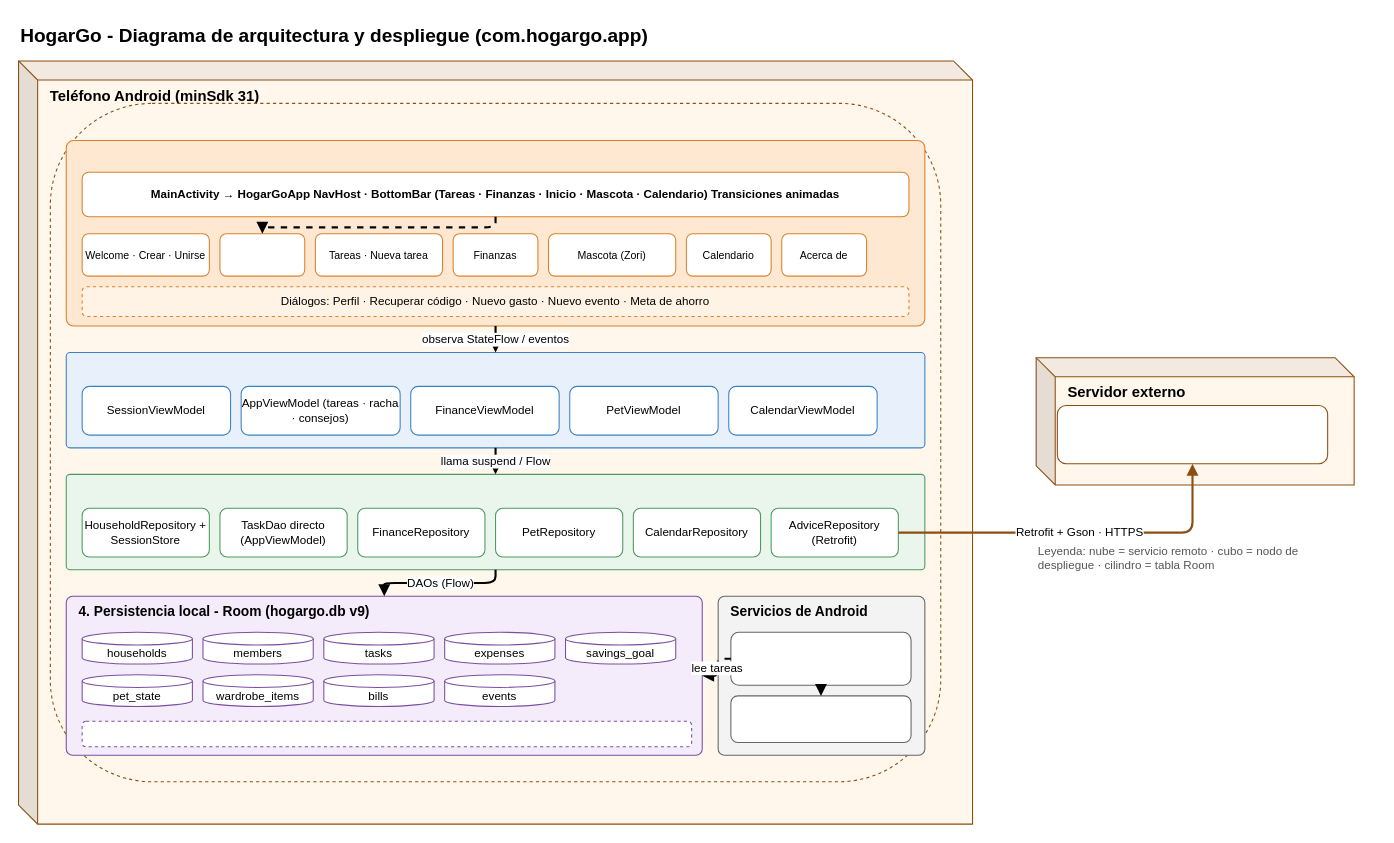
Image size: 1394x843. Some labels were removed from this diagram. Here are the shapes that lost their labels. From the top down, the box of each, then its label:
(65, 139, 925, 326): 1. Presentación (Jetpack Compose + Navigation Compose)
(219, 233, 305, 276): Inicio
(65, 351, 925, 448): 2. Estado de UI (ViewModel + StateFlow)
(49, 102, 941, 782): Artefacto: HogarGo.apk - Kotlin + Jetpack Compose (Material 3)
(1056, 404, 1328, 464): api.adviceslip.com GET /advice (REST · JSON · HTTPS)
(65, 473, 925, 570): 3. Capa de datos (Repositorios, un hogar = un conjunto de datos)
(730, 631, 911, 685): WorkManager StreakReminderWorker (diario, 8:00 pm)
(81, 720, 692, 747): DAOs + Converters + migraciones
(730, 695, 911, 743): NotificationManager (racha en riesgo)
